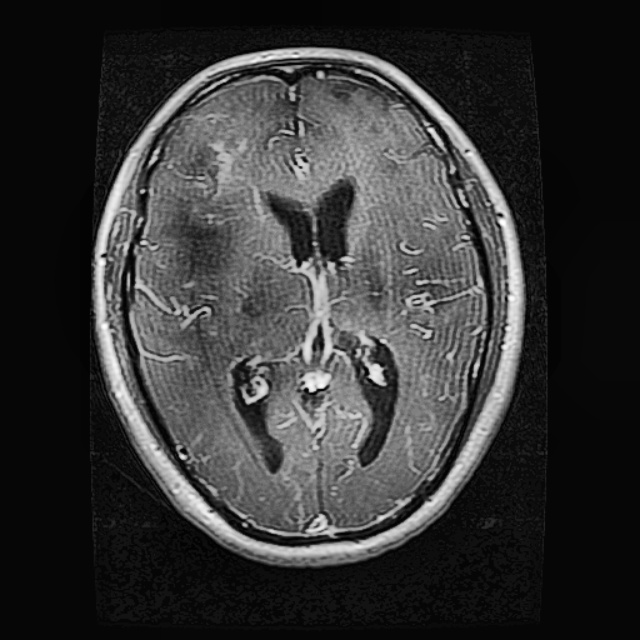Pituitary: (172, 128, 262, 232)
